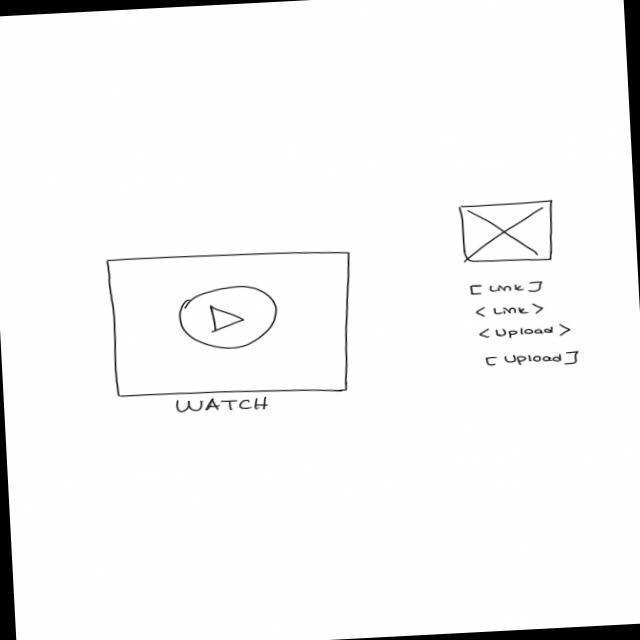image: (458, 200, 558, 266)
label: (175, 395, 272, 417)
link: (484, 349, 585, 371), (479, 323, 575, 344), (469, 279, 548, 297), (476, 302, 548, 320)
